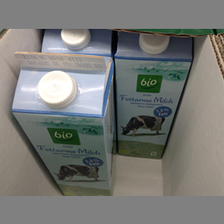milk: (7, 52, 117, 198), (115, 31, 198, 170)
